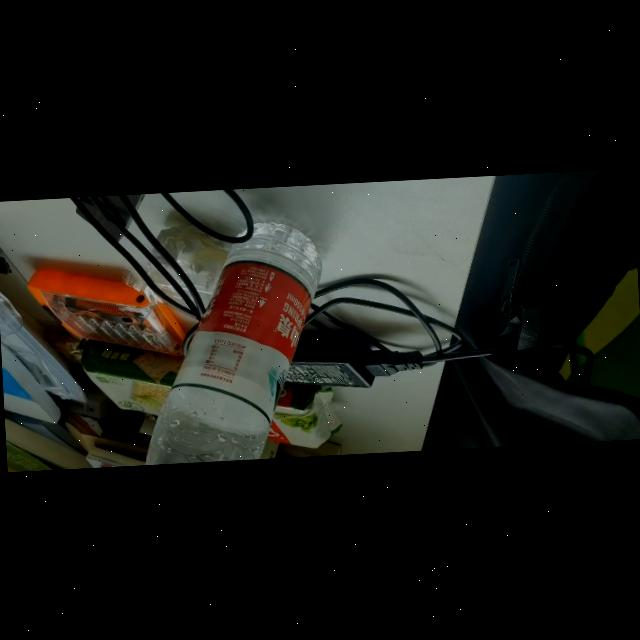trash: (126, 217, 334, 466)
